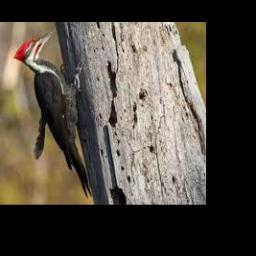Woodpecker: (13, 29, 93, 198)
